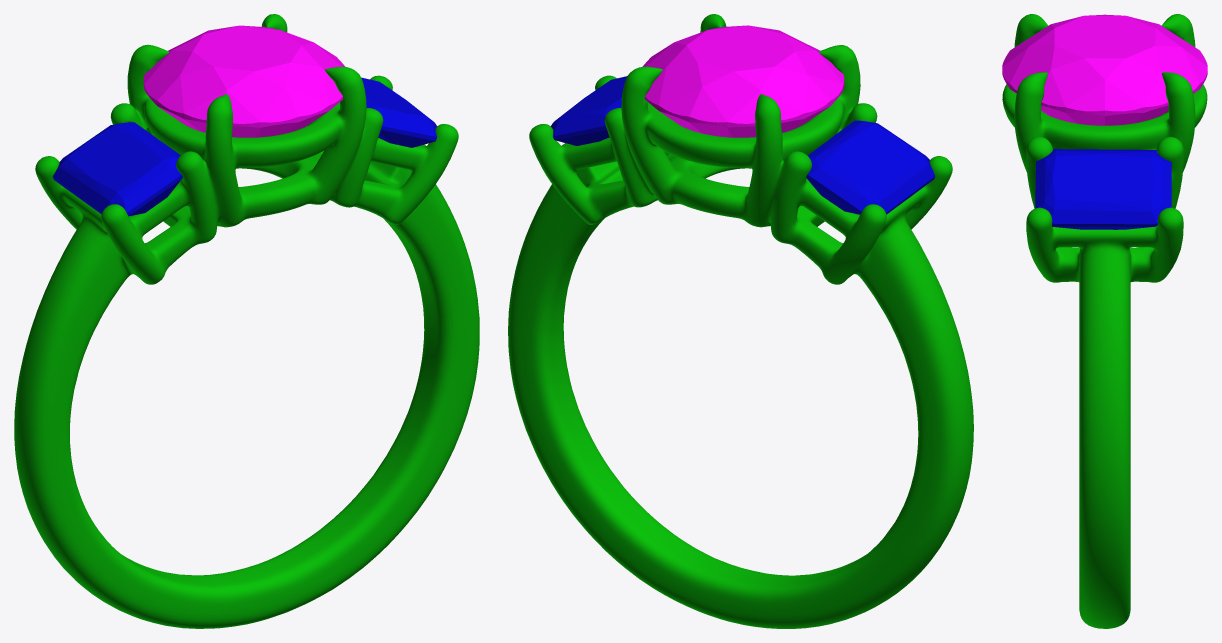
File: BE1D4822_RD_200ct_RENDER.glb
3 renders of one model, left to right at view 1: azimuth 30°, elevation 25°; view 2: azimuth 150°, elevation 25°; view 3: azimuth 270°, elevation 25°, orthographic.
Parts seen in each view (by area): view 1: Metal 01, CS_Diamond_Round, Diamond_Radiant_side.001, Diamond_Radiant_side; view 2: Metal 01, CS_Diamond_Round, Diamond_Radiant_side.001, Diamond_Radiant_side; view 3: Metal 01, CS_Diamond_Round, Diamond_Radiant_side.
Boxes of the visible parts, x1,y1,x2,y2 form: Metal 01: [14, 14, 479, 628]; CS_Diamond_Round: [143, 25, 345, 137]; Diamond_Radiant_side.001: [52, 122, 182, 216]; Diamond_Radiant_side: [361, 77, 437, 147]; Metal 01: [508, 14, 973, 628]; CS_Diamond_Round: [642, 25, 844, 137]; Diamond_Radiant_side.001: [806, 120, 935, 214]; Diamond_Radiant_side: [550, 76, 627, 145]; Metal 01: [1002, 14, 1207, 628]; CS_Diamond_Round: [1002, 14, 1207, 125]; Diamond_Radiant_side: [1035, 149, 1171, 229].
Bounding box in the file's own units: 20.32 × 24.35 × 8.
